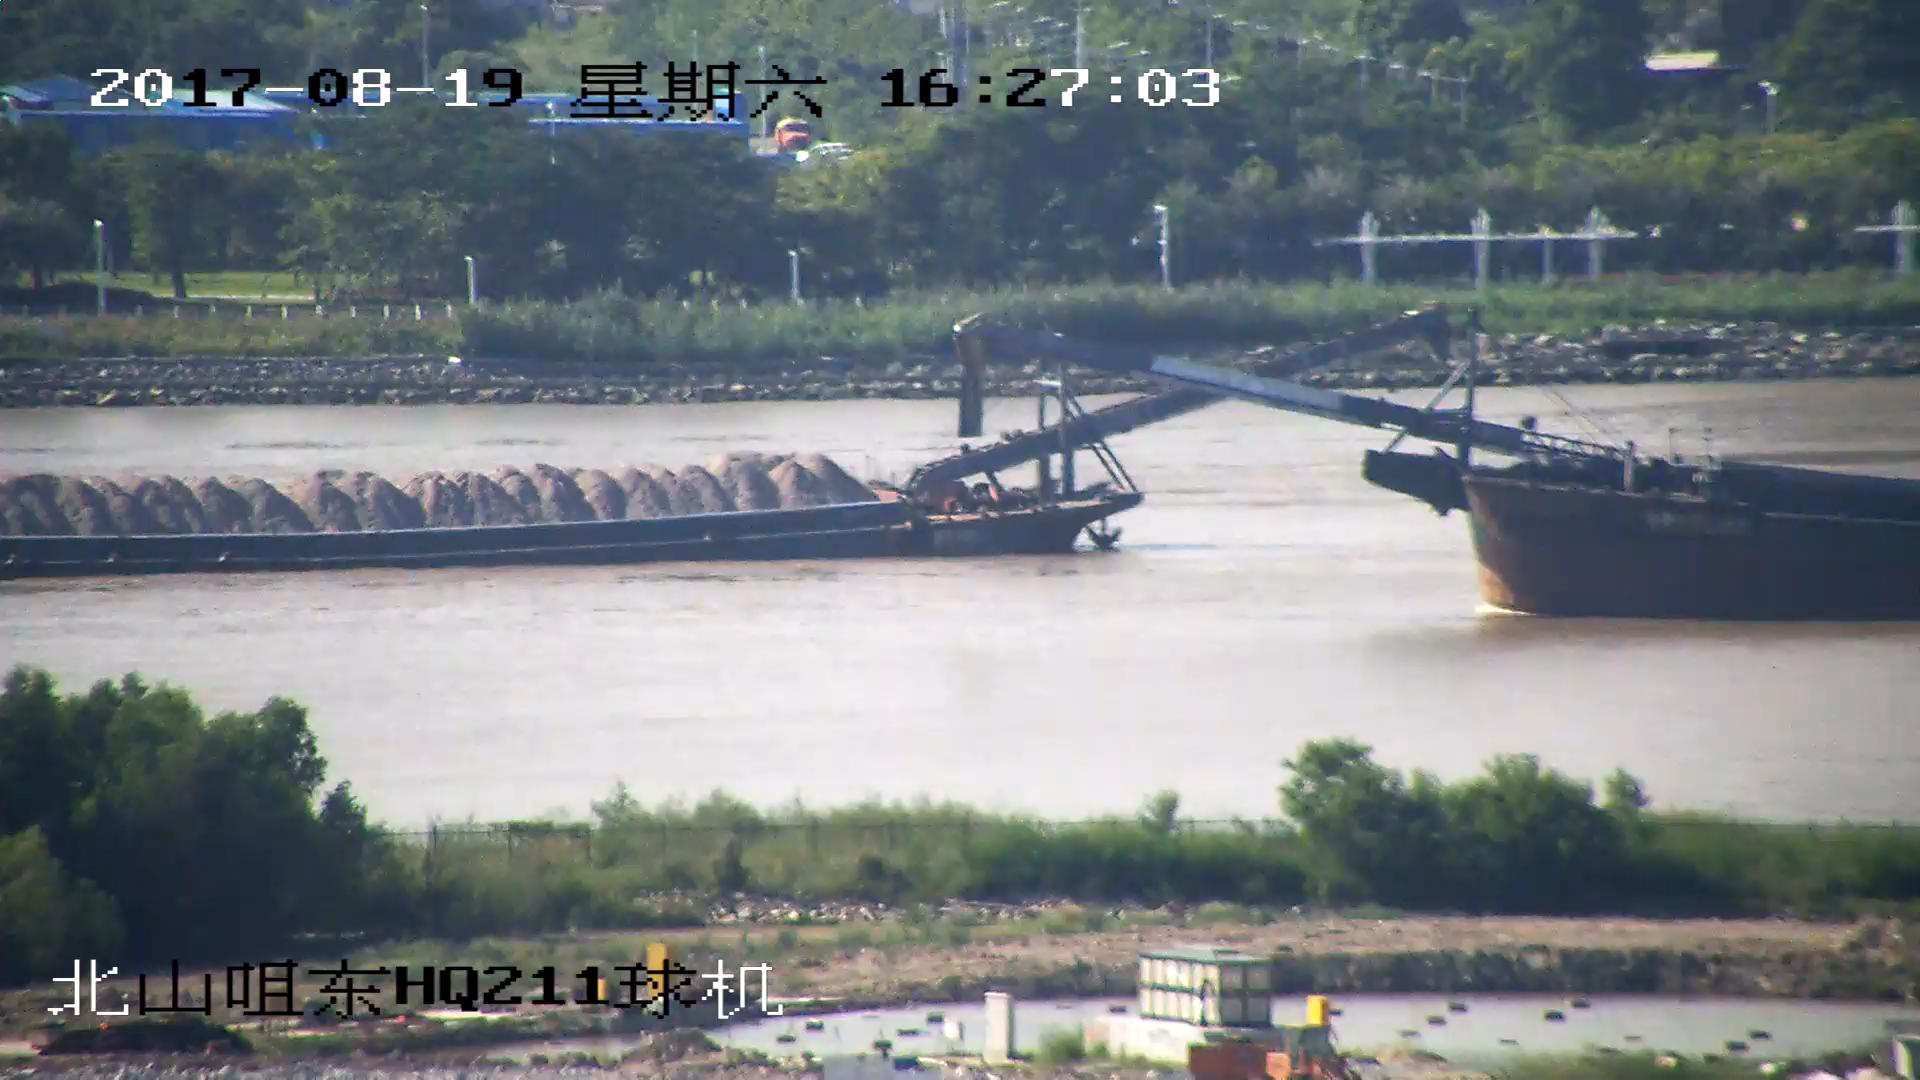bulk cargo carrier: (946, 313, 1920, 623)
ore carrier: (1, 301, 1439, 576)
